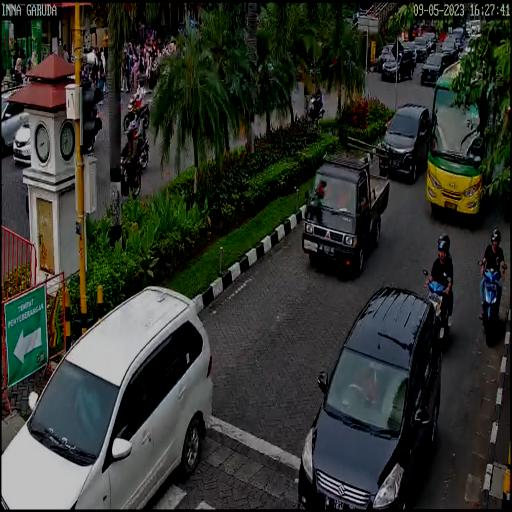mobil: (4, 283, 213, 512), (300, 275, 442, 512), (298, 138, 390, 275), (424, 62, 489, 224), (378, 102, 430, 180)
motor: (477, 258, 507, 343), (424, 275, 452, 346)
